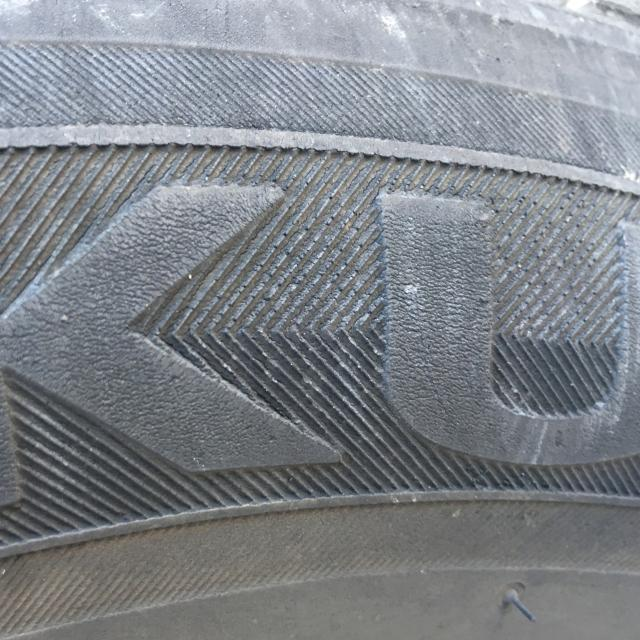Cracks: (0, 104, 640, 508)
Non-defective: (0, 522, 640, 640)
